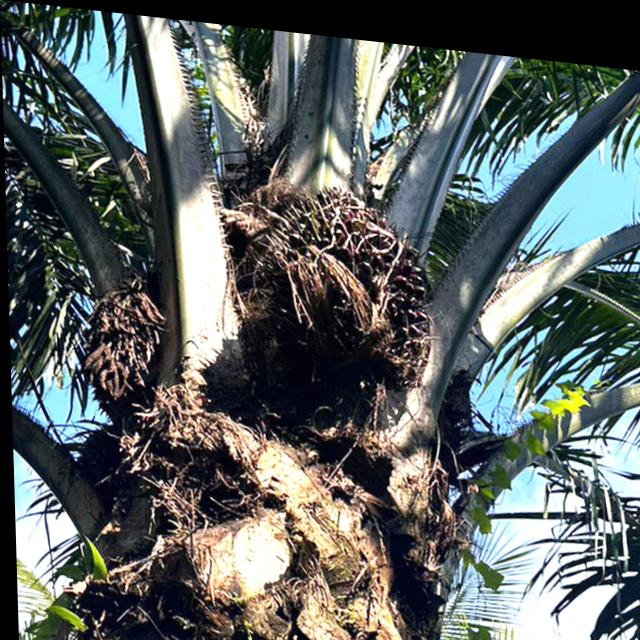unripe: (201, 154, 448, 405)
